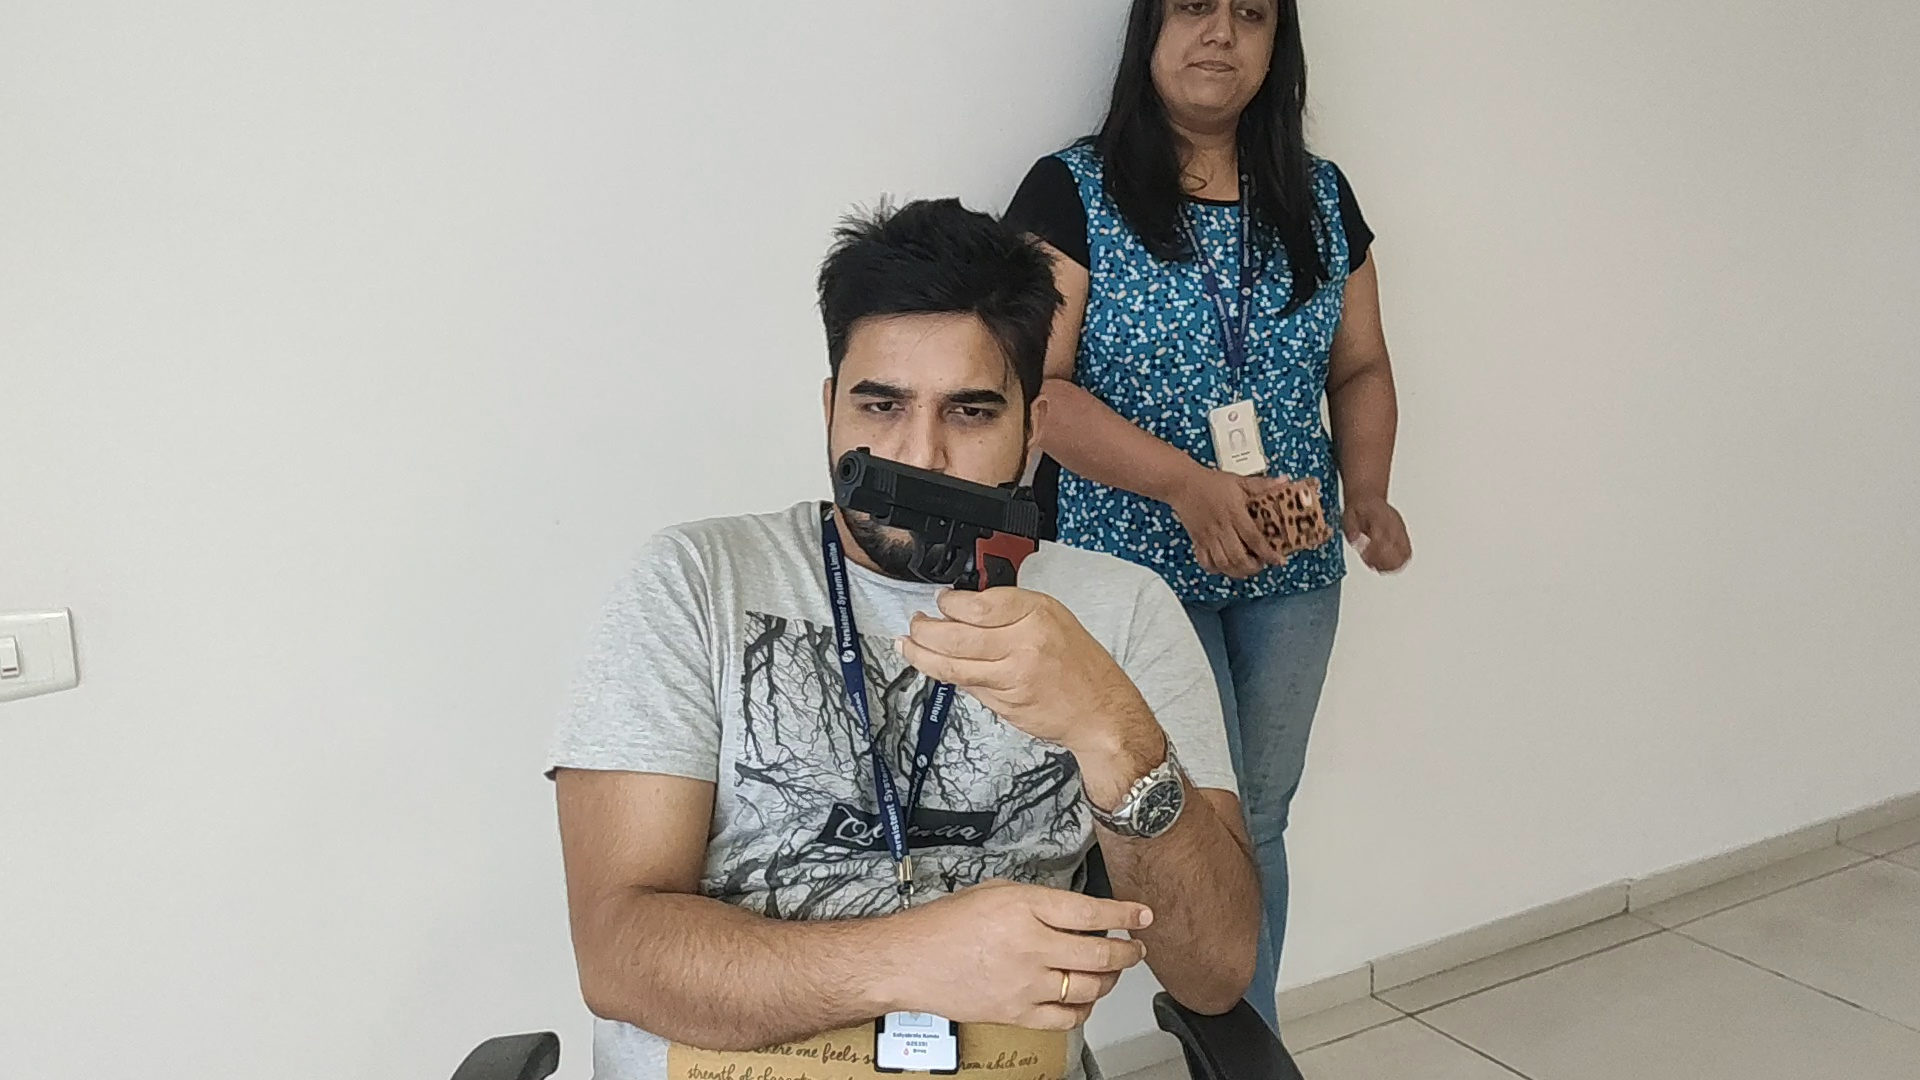gun: (833, 446, 1039, 585)
